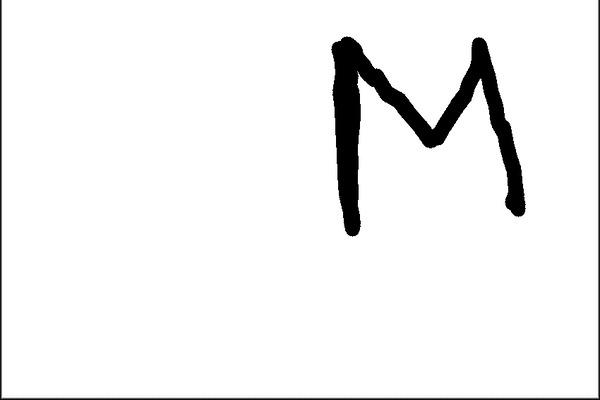M: (325, 31, 531, 239)
